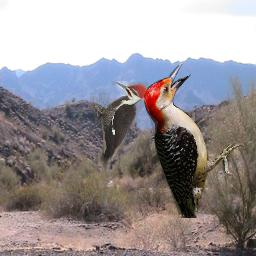Woodpecker: (144, 63, 246, 218), (90, 81, 150, 179)
